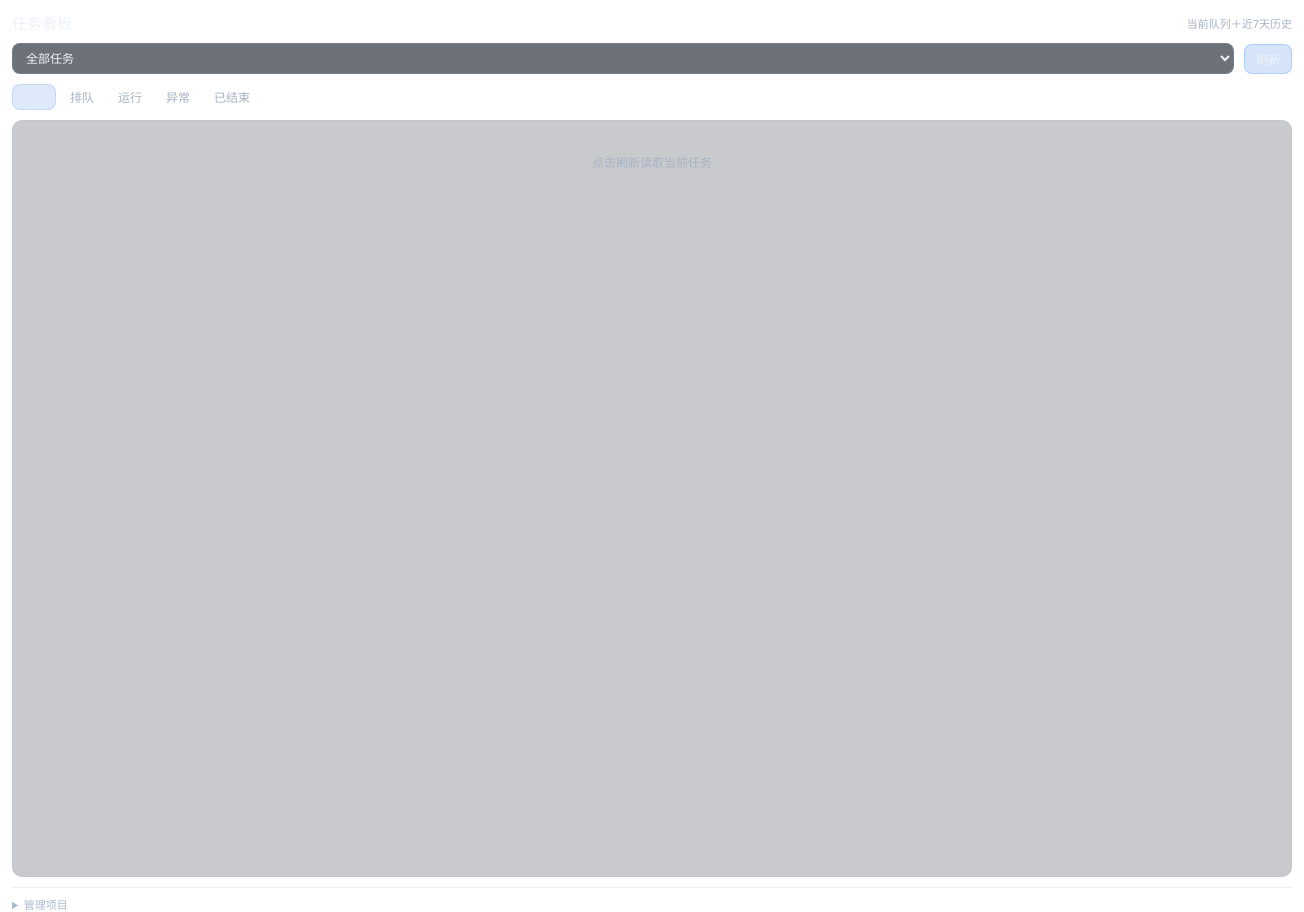
Test: HPC task board › shows one compact manual board with no network before refresh
Expected: the text "点击刷新读取当前任务" is shown, [592,154,712,171]
Expected: the text "当前队列＋近7天历史" is shown, [1187,14,1292,30]
Click the button "刷新".
click(1268, 58)  # box [1244,44,1292,74]
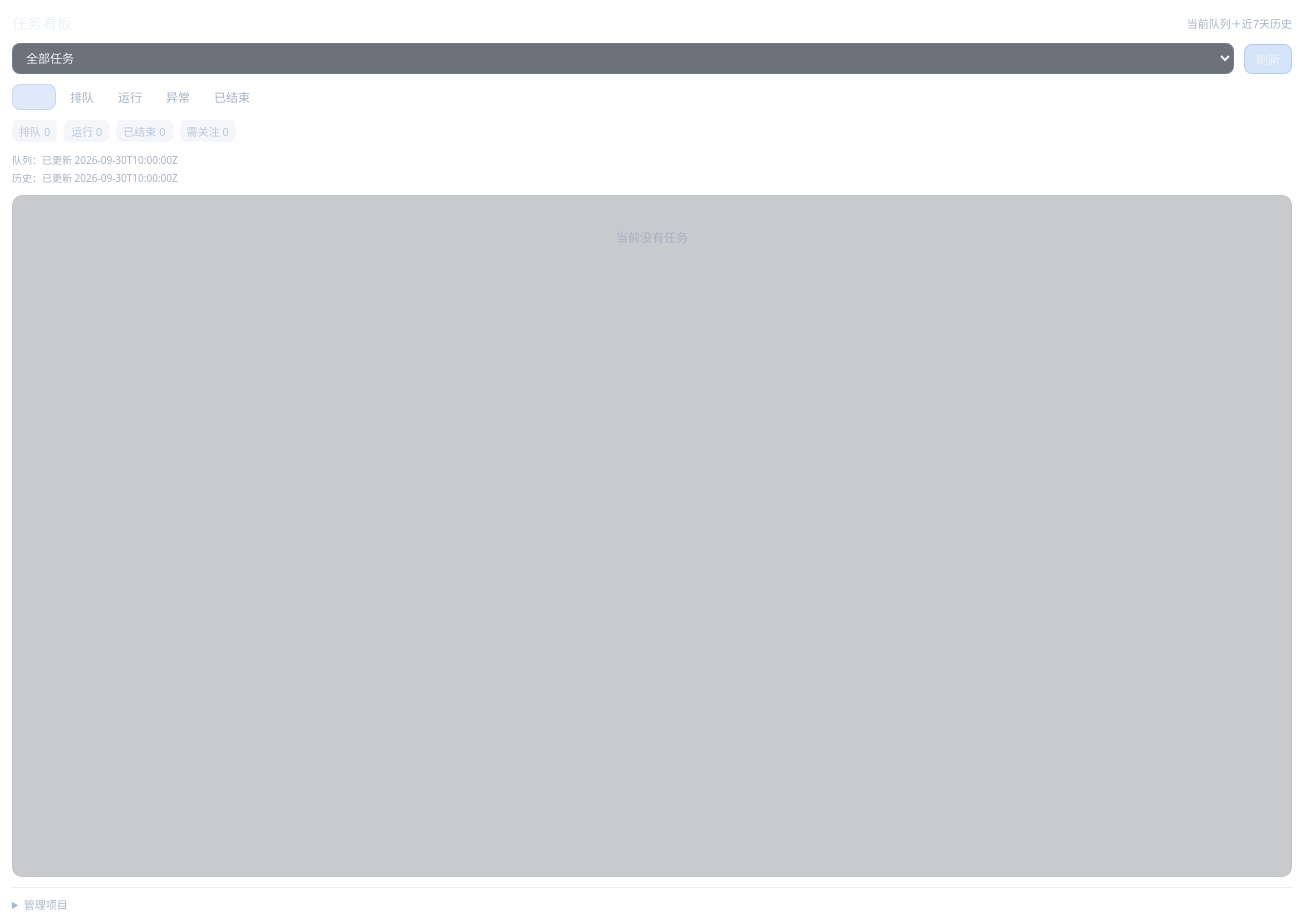
Result: the text "当前没有任务" is shown at [616,229,688,246]
